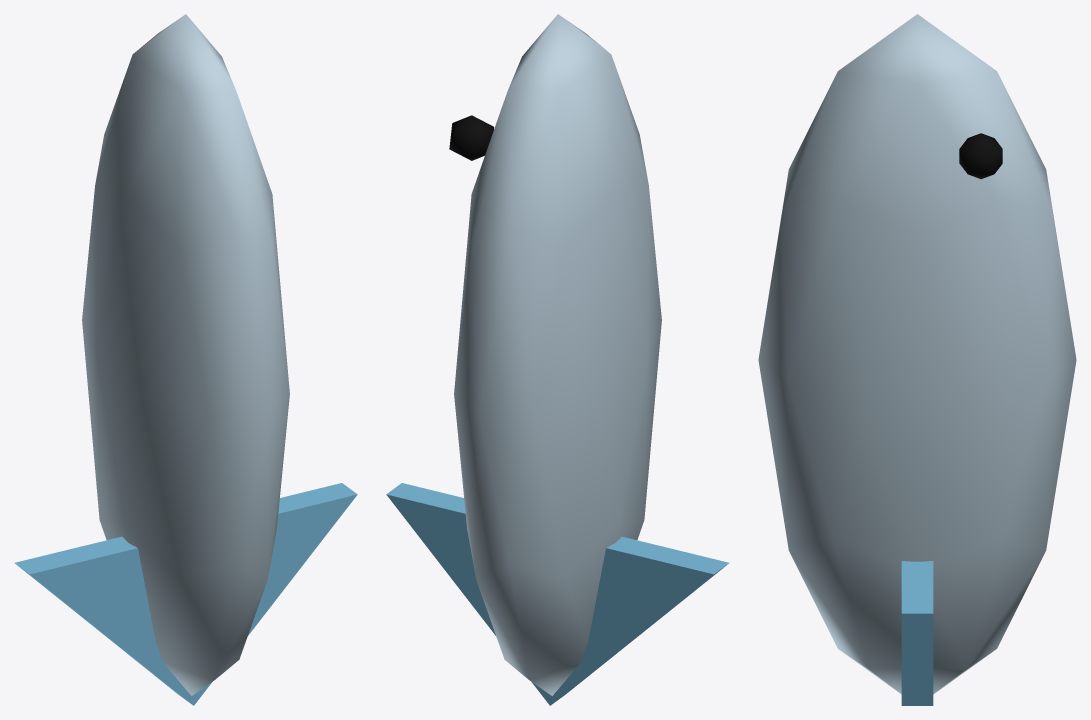
Rendered from zephyr_fish.glb.
3 views of the same model, side by side, from view 1: azimuth 30°, elevation 25°; view 2: azimuth 150°, elevation 25°; view 3: azimuth 270°, elevation 25° (orthographic).
Parts seen in each view (by area): view 1: zephyr_fish_v0; view 2: zephyr_fish_v0; view 3: zephyr_fish_v0.
Part boxes in pixels (left/top/right/bottom): zephyr_fish_v0: left=14, top=14, right=357, bottom=705; zephyr_fish_v0: left=386, top=14, right=729, bottom=705; zephyr_fish_v0: left=758, top=14, right=1076, bottom=705.
Size of the model in its own units: 0.12 by 0.24 by 0.1.
